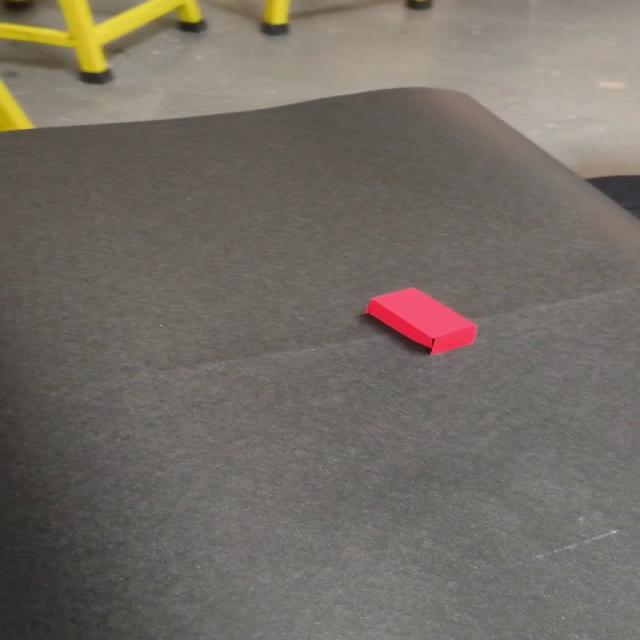red block: (363, 286, 477, 355)
